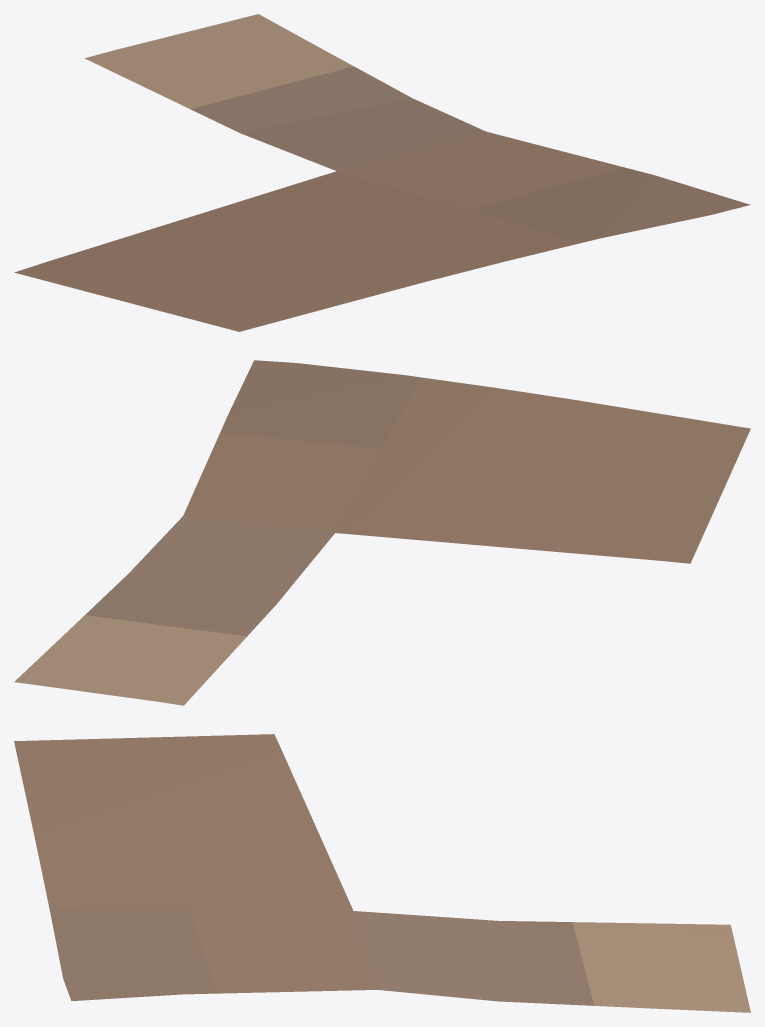
Rendered from farm_5_27_soil.glb.
3 views of the same model, one above another, from view 1: azimuth 30°, elevation 25°; view 2: azimuth 150°, elevation 25°; view 3: azimuth 270°, elevation 25° (orthographic). The views are drawn at different scales.
Parts seen in each view (by area): view 1: geometry_0; view 2: geometry_0; view 3: geometry_0.
Boxes of the visible parts, x1=… form: geometry_0: x1=14, y1=14, x2=750, y2=331; geometry_0: x1=14, y1=360, x2=750, y2=705; geometry_0: x1=14, y1=734, x2=750, y2=1012.
Bounding box in the file's own units: 92.28 × 13.46 × 107.
